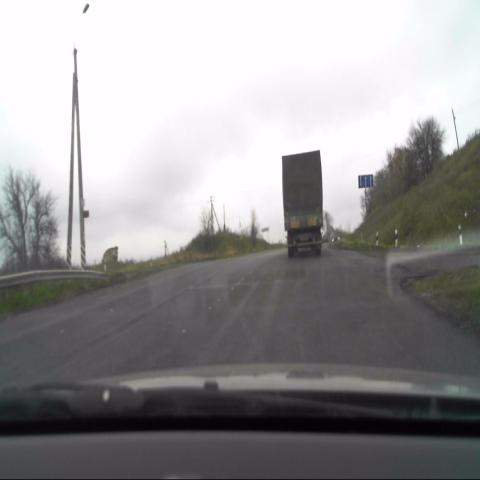5_15_7: (358, 174, 372, 188)
